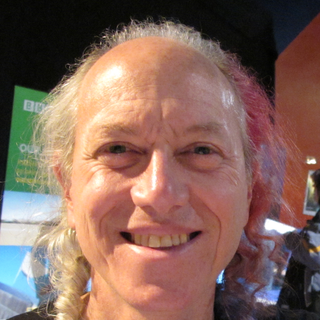eye: (95, 138, 145, 161), (176, 141, 227, 162)
